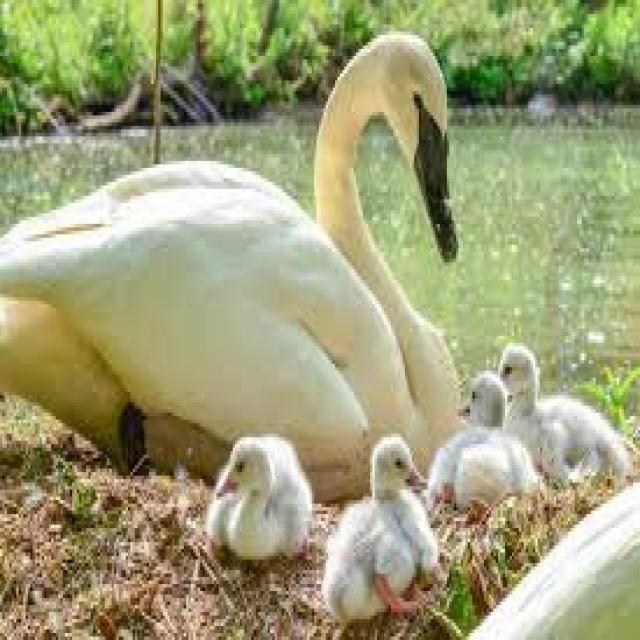swan: (0, 31, 458, 499), (321, 434, 438, 619), (500, 346, 628, 479), (424, 371, 538, 507), (205, 434, 312, 556)
